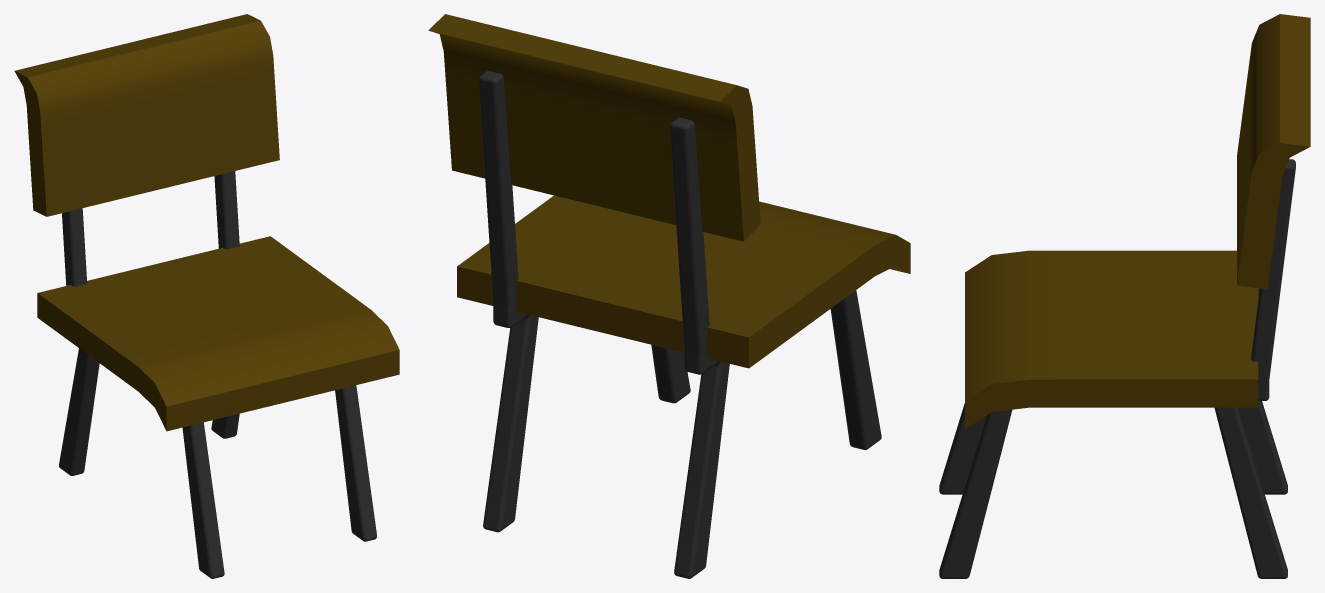
The model's file is Chair1.fbx.
3 renders of one model, left to right at view 1: azimuth 30°, elevation 25°; view 2: azimuth 150°, elevation 25°; view 3: azimuth 270°, elevation 25°, orthographic. The views are drawn at different scales.
Parts seen in each view (by area): view 1: polySurface3; view 2: polySurface3; view 3: polySurface3.
Boxes of the visible parts, x1,y1,x2,y2 form: polySurface3: (14, 14, 399, 578); polySurface3: (428, 14, 910, 578); polySurface3: (939, 14, 1310, 578).
Size of the model in its own units: 11.36 by 18.69 by 13.82.
